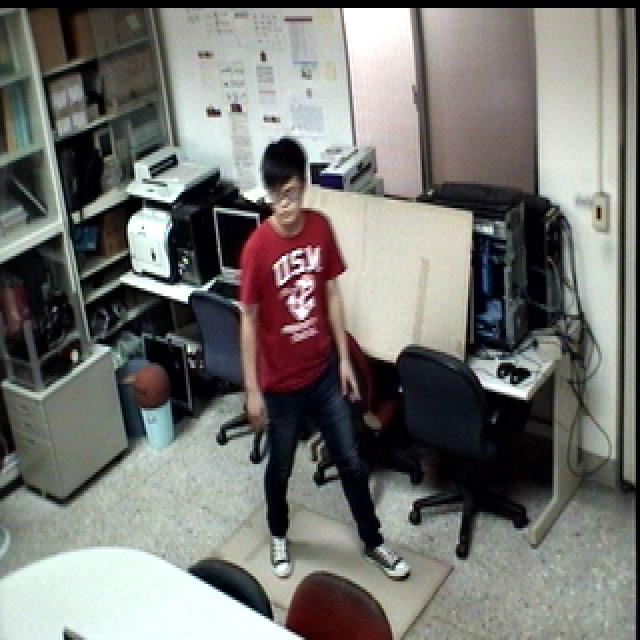stand: (235, 127, 424, 600)
